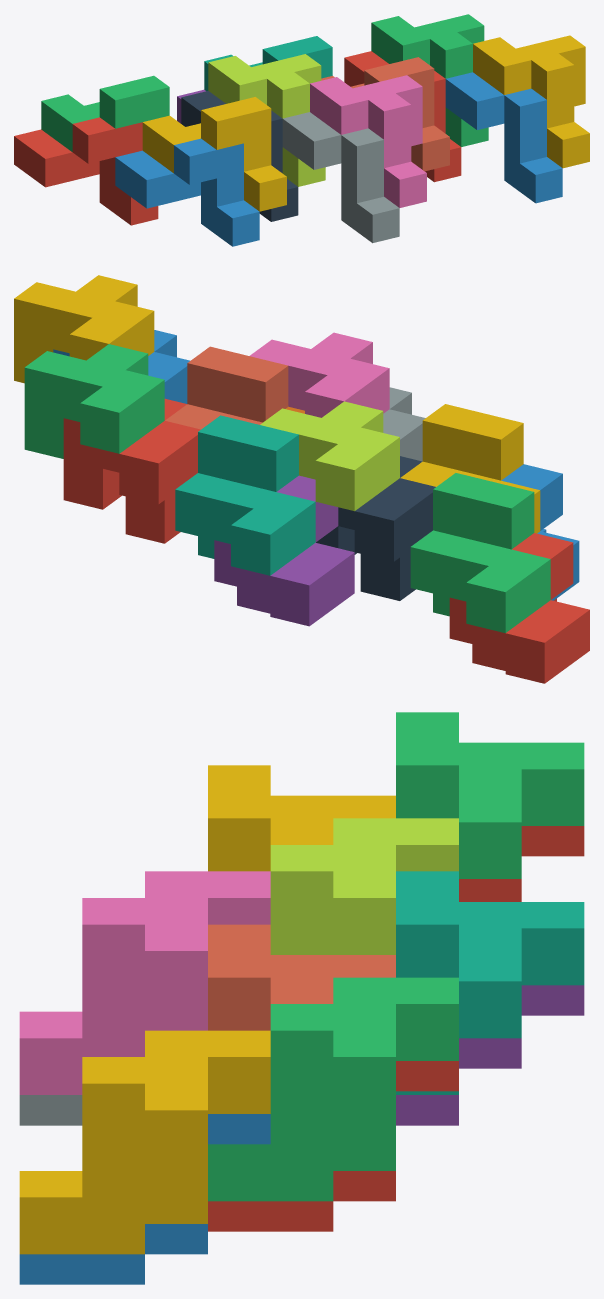
Rendered from tiling.obj.
The picture shows the model from 3 angles, top to bottom: view 1: azimuth 30°, elevation 25°; view 2: azimuth 150°, elevation 25°; view 3: azimuth 270°, elevation 25°; orthographic projection. The views are drawn at different scales.
Parts seen in each view (by area): view 1: copy_1_domain_2, copy_2_domain_4, copy_2_domain_8, copy_2_domain_2, copy_2_domain_6, copy_1_domain_1, copy_1_domain_4, copy_2_domain_3, copy_2_domain_7, copy_1_domain_3, copy_1_domain_8, copy_2_domain_1 (+2 smaller); view 2: copy_1_domain_3, copy_1_domain_7, copy_2_domain_7, copy_2_domain_5, copy_2_domain_8, copy_1_domain_1, copy_2_domain_3, copy_1_domain_5, copy_2_domain_1, copy_1_domain_4, copy_2_domain_4, copy_1_domain_8 (+3 smaller); view 3: copy_2_domain_8, copy_2_domain_7, copy_2_domain_4, copy_1_domain_7, copy_1_domain_3, copy_2_domain_3, copy_1_domain_4, copy_1_domain_8, copy_2_domain_6, copy_2_domain_5, copy_1_domain_5, copy_1_domain_1 (+1 smaller).
Boxes of the visible parts, left/top/right/bottom form: copy_1_domain_2: left=115, top=138, right=259, bottom=246; copy_2_domain_4: left=310, top=75, right=426, bottom=207; copy_2_domain_8: left=473, top=35, right=589, bottom=168; copy_2_domain_2: left=282, top=112, right=399, bottom=243; copy_2_domain_6: left=445, top=72, right=562, bottom=203; copy_1_domain_1: left=14, top=117, right=158, bottom=225; copy_1_domain_4: left=142, top=97, right=286, bottom=211; copy_2_domain_3: left=208, top=54, right=325, bottom=186; copy_2_domain_7: left=371, top=14, right=488, bottom=146; copy_1_domain_3: left=41, top=75, right=169, bottom=151; copy_1_domain_8: left=321, top=57, right=449, bottom=171; copy_2_domain_1: left=181, top=91, right=298, bottom=221; copy_1_domain_3: left=410, top=473, right=550, bottom=633; copy_1_domain_7: left=175, top=415, right=315, bottom=575; copy_2_domain_7: left=24, top=344, right=164, bottom=458; copy_2_domain_5: left=63, top=398, right=200, bottom=543; copy_2_domain_8: left=14, top=275, right=154, bottom=383; copy_1_domain_1: left=449, top=533, right=589, bottom=683; copy_2_domain_3: left=260, top=401, right=399, bottom=511; copy_1_domain_5: left=214, top=475, right=354, bottom=626; copy_2_domain_1: left=316, top=456, right=435, bottom=600; copy_1_domain_4: left=400, top=404, right=540, bottom=533; copy_2_domain_4: left=249, top=332, right=389, bottom=417; copy_1_domain_8: left=165, top=346, right=288, bottom=429; copy_2_domain_8: left=19, top=1030, right=270, bottom=1254; copy_2_domain_7: left=208, top=977, right=458, bottom=1201; copy_2_domain_4: left=19, top=871, right=270, bottom=1094; copy_1_domain_7: left=396, top=871, right=584, bottom=1094; copy_1_domain_3: left=396, top=712, right=584, bottom=878; copy_2_domain_3: left=270, top=818, right=458, bottom=954; copy_1_domain_4: left=208, top=765, right=395, bottom=871; copy_1_domain_8: left=208, top=924, right=395, bottom=1030; copy_2_domain_6: left=19, top=1114, right=270, bottom=1284; copy_2_domain_5: left=208, top=1061, right=458, bottom=1231; copy_1_domain_5: left=396, top=985, right=584, bottom=1125; copy_1_domain_1: left=459, top=826, right=584, bottom=901.
Size of the model in its own units: 17 by 4 by 9.
